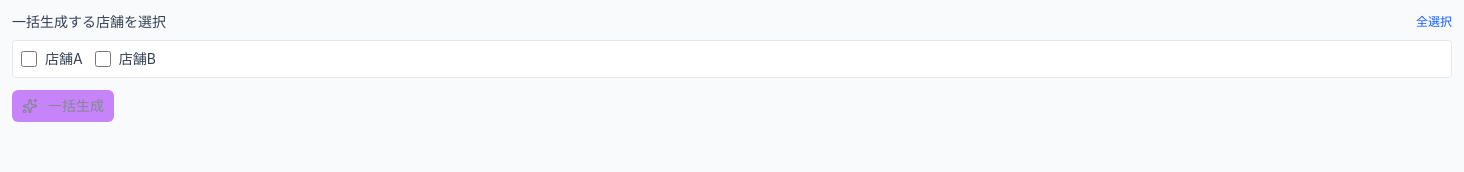
BulkShiftGenerator › toggling 全選択 selects all stores and enables the generate button
This screenshot has width=1464, height=172.
Click the button "全選択": (1434, 22) [1416, 14, 1452, 30]
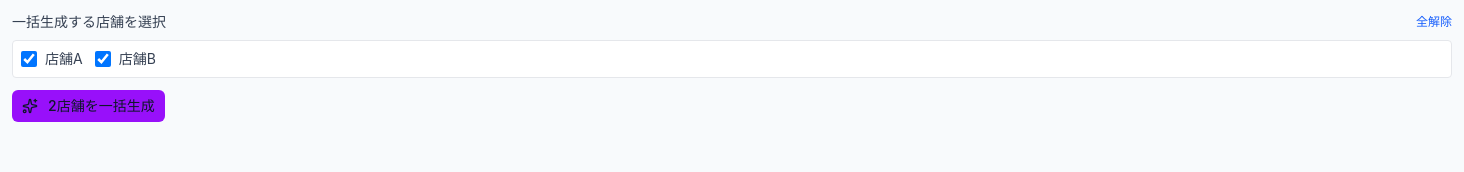
Expected: the button "2店舗を一括生成" is enabled, [12, 90, 165, 122]
